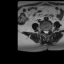CCS_normal: (45, 29, 47, 35)
LFS_stenosis: (48, 28, 51, 33)
LLS_normal: (47, 29, 48, 34)
RFS_normal: (42, 28, 44, 32)
RLS_normal: (43, 30, 45, 34)
